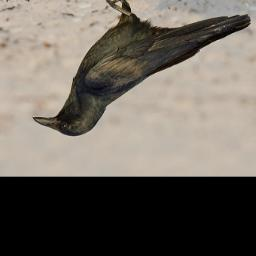Crow: (30, 0, 253, 138)
